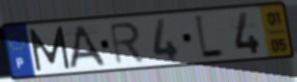4: (152, 16, 182, 63), (233, 10, 262, 57)
A: (67, 23, 108, 70)
L: (192, 13, 226, 62)
M: (26, 25, 73, 73)
R: (107, 20, 147, 67)
